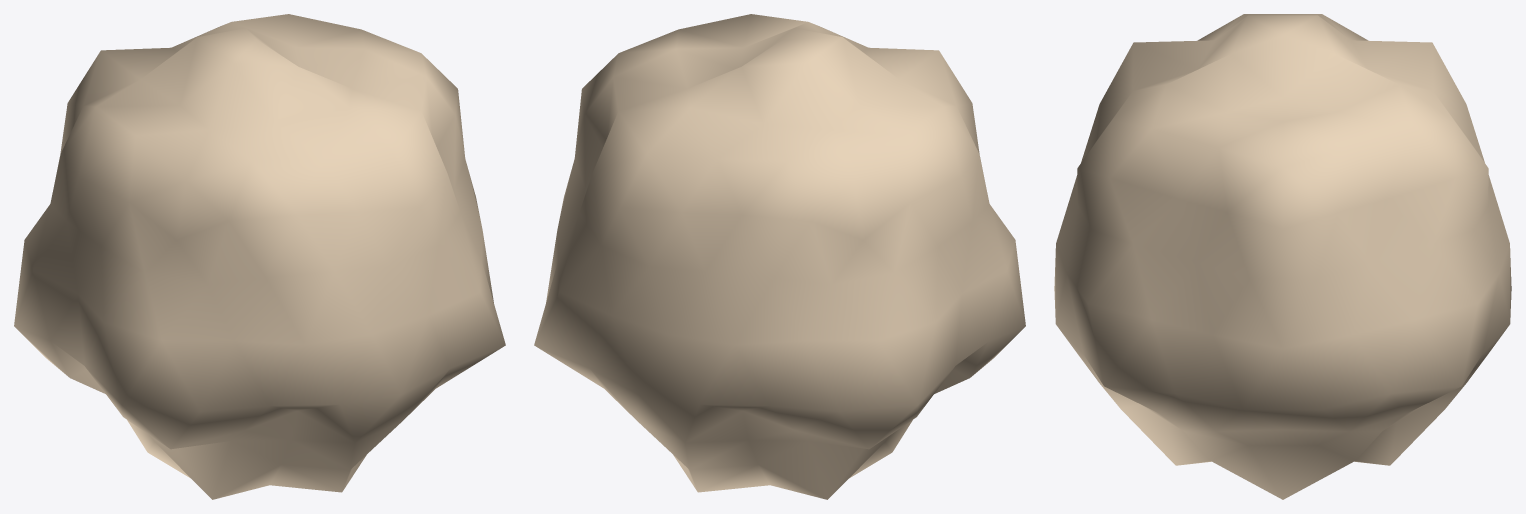
Rendered from weathered-boulder-v1.glb.
The picture shows the model from 3 angles, left to right: view 1: azimuth 30°, elevation 25°; view 2: azimuth 150°, elevation 25°; view 3: azimuth 270°, elevation 25°; orthographic projection.
Parts seen in each view (by area): view 1: Mission1_weathered-boulder; view 2: Mission1_weathered-boulder; view 3: Mission1_weathered-boulder.
Part boxes in pixels (x1=…): Mission1_weathered-boulder: x1=14, y1=14, x2=505, y2=499; Mission1_weathered-boulder: x1=534, y1=14, x2=1025, y2=499; Mission1_weathered-boulder: x1=1054, y1=14, x2=1511, y2=499.
Bounding box in the file's own units: 2.05 × 2.07 × 2.01.
